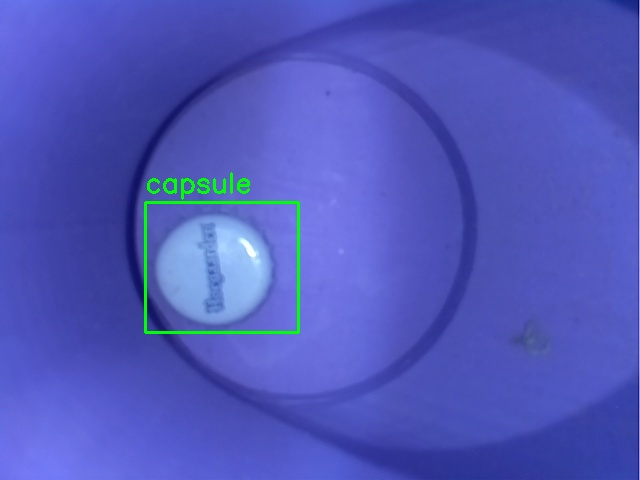capsule: (145, 202, 298, 332)
